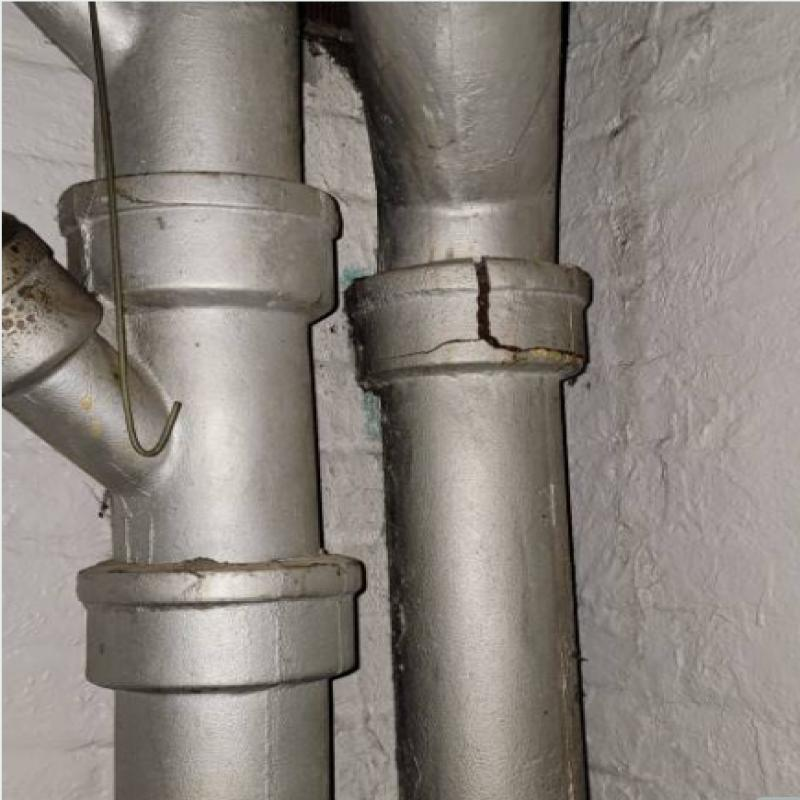Fracture: (418, 258, 549, 390)
